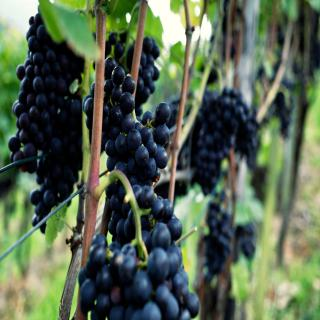Grape: (77, 32, 199, 319), (7, 14, 82, 234), (196, 86, 259, 198), (205, 194, 256, 275)
